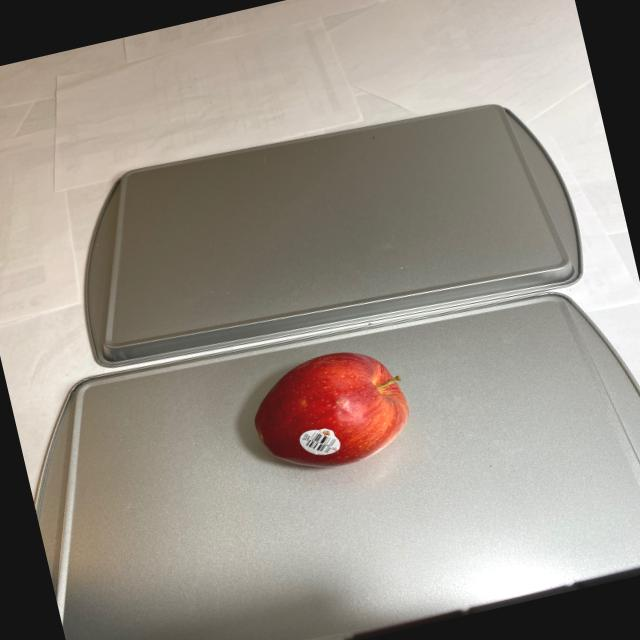apple: (239, 338, 422, 481)
